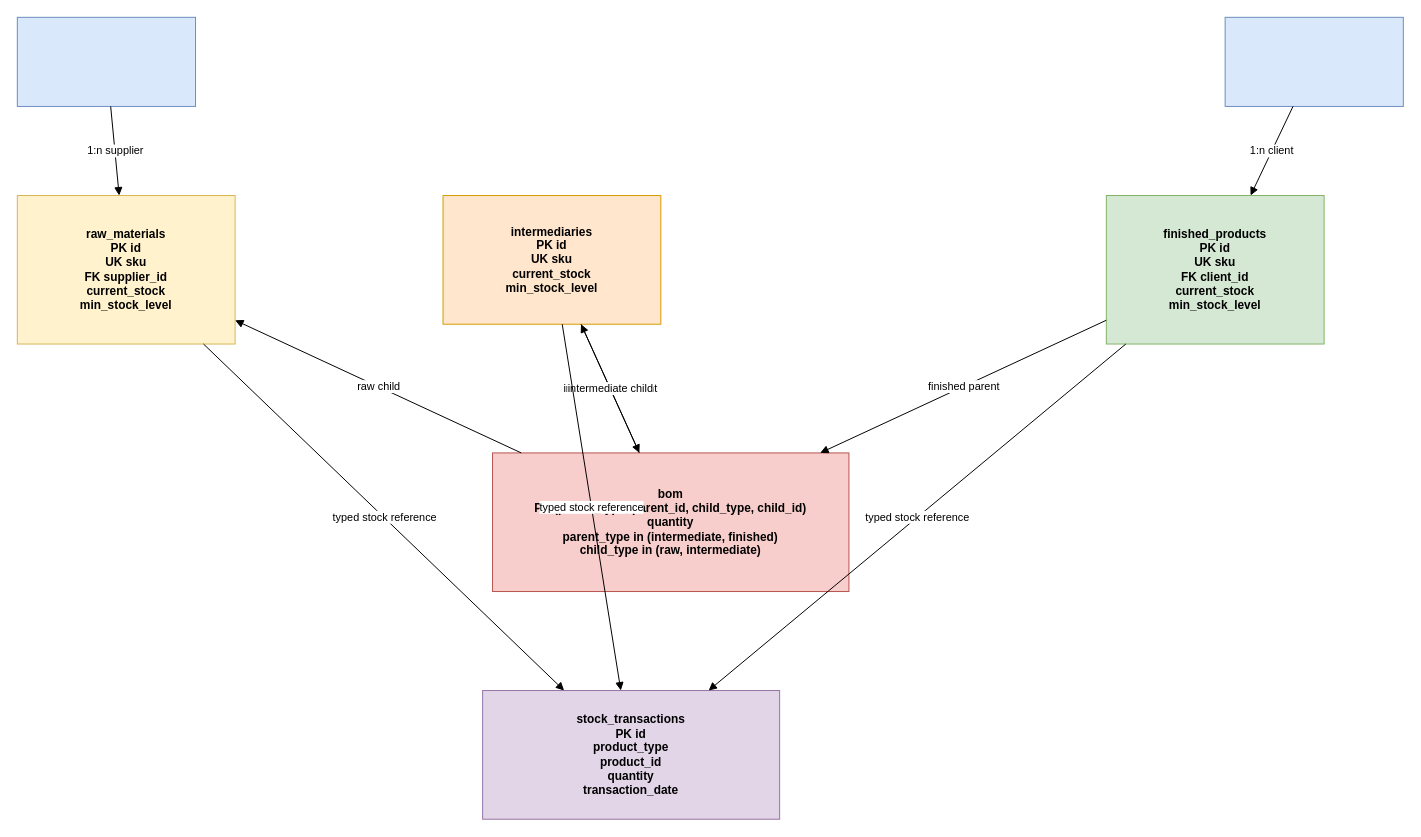
Some shapes in this 1421 by 837 pixel diagram are drawn without their labels. The centre of each missing label's shape, as x and y in pixels:
"clients PK id name" goes at (1313,61).
"suppliers PK id name" goes at (106,61).
